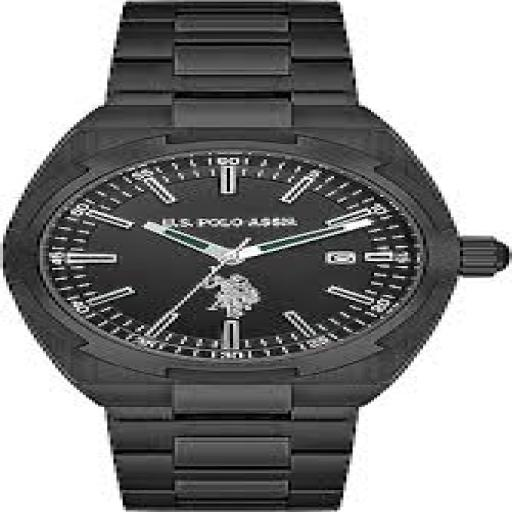KolSaati: (4, 0, 507, 512)
